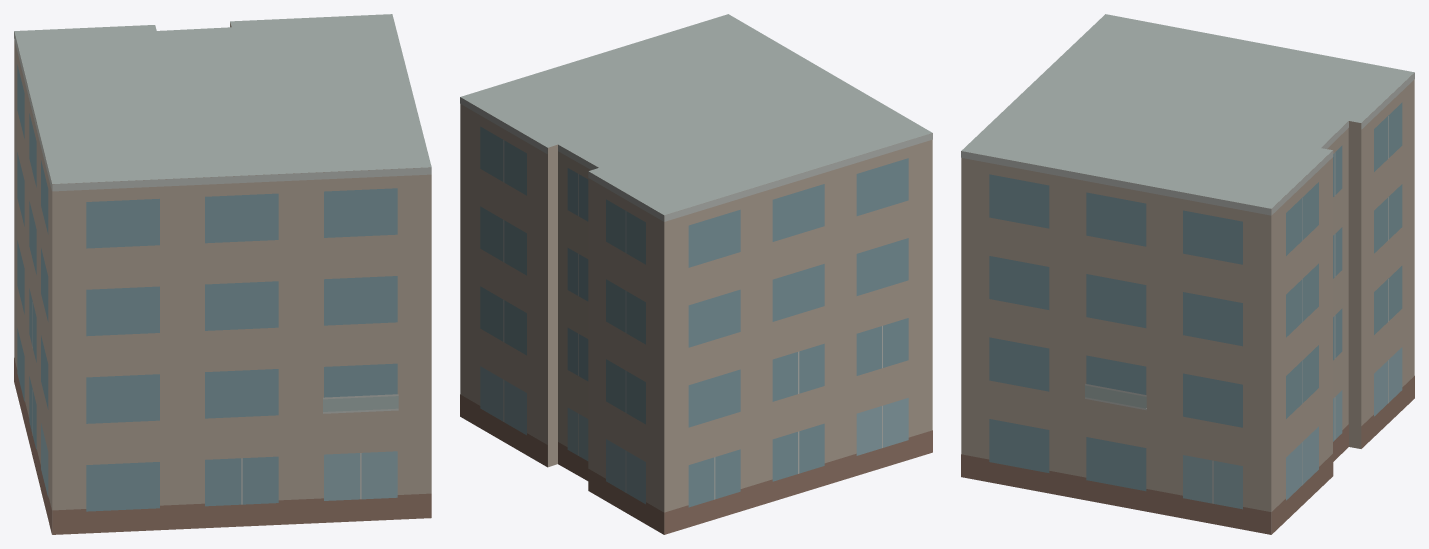
Rendered from survey-upis-32747255.glb.
3 views of the same model, side by side, from view 1: azimuth 30°, elevation 25°; view 2: azimuth 150°, elevation 25°; view 3: azimuth 270°, elevation 25° (orthographic). The views are drawn at different scales.
Visible parts, largest first — view 1: survey-upis-32747255.tmp; view 2: survey-upis-32747255.tmp; view 3: survey-upis-32747255.tmp.
Part boxes in pixels (x1,y1,x2,y2): survey-upis-32747255.tmp: (14,14,431,534); survey-upis-32747255.tmp: (460,14,932,534); survey-upis-32747255.tmp: (961,14,1414,534).
Bounding box in the file's own units: 15 × 11.7 × 14.76.
